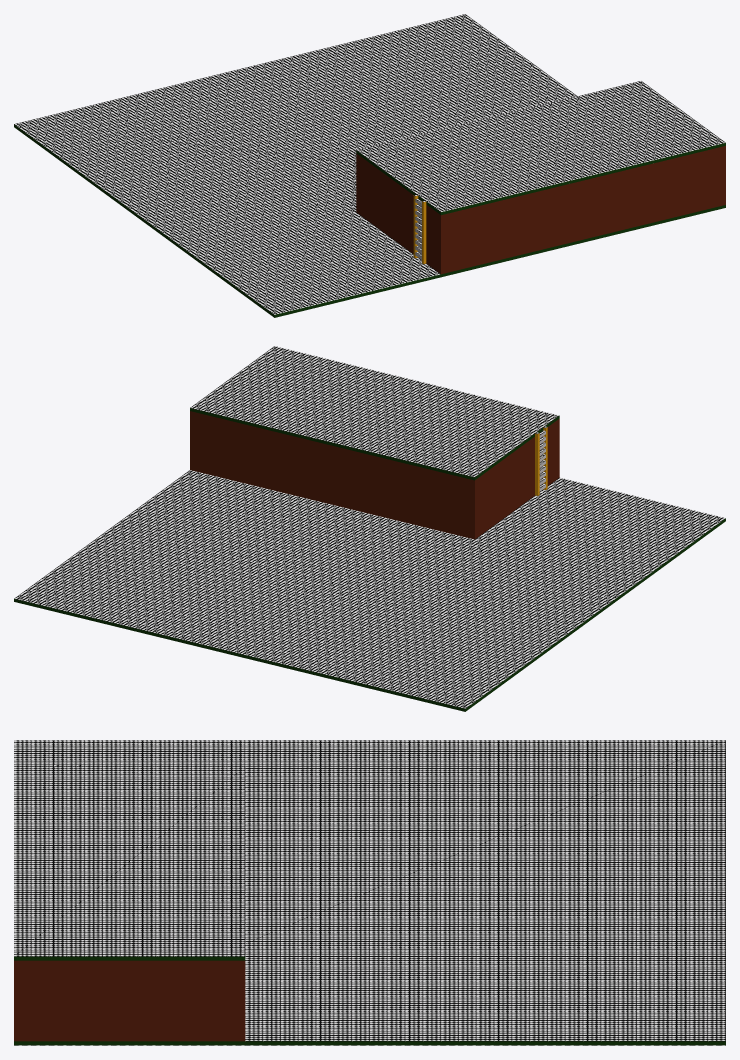
Rendered from floor.obj.
3 renders of one model, top to bottom at view 1: azimuth 30°, elevation 25°; view 2: azimuth 150°, elevation 25°; view 3: azimuth 270°, elevation 25°, orthographic. The views are drawn at different scales.
Visible parts, largest first — view 1: Baseplate2, GrassPart2, DirtPart1, Baseplate1, GrassPart1; view 2: Baseplate2, GrassPart2, DirtPart1, Baseplate1, GrassPart1; view 3: Baseplate2, GrassPart2, DirtPart1, Baseplate1, GrassPart1, Baseplate3.
Boxes of the visible parts, x1,y1,x2,y2 form: Baseplate2: (14, 14, 577, 314); GrassPart2: (357, 81, 725, 212); DirtPart1: (356, 146, 725, 274); Baseplate1: (14, 124, 725, 317); GrassPart1: (356, 143, 725, 215); Baseplate2: (14, 470, 725, 708); GrassPart2: (190, 346, 558, 477); DirtPart1: (190, 411, 559, 539); Baseplate1: (14, 518, 725, 711); GrassPart1: (190, 408, 559, 480); Baseplate2: (14, 740, 725, 1041); GrassPart2: (14, 766, 245, 956); DirtPart1: (14, 960, 245, 1041); Baseplate1: (14, 1041, 725, 1045); GrassPart1: (14, 956, 245, 960); Baseplate3: (14, 1045, 725, 1045).
Size of the model in its own units: 160 by 22.04 by 160.
Materials: 6 (2 with a texture image).
